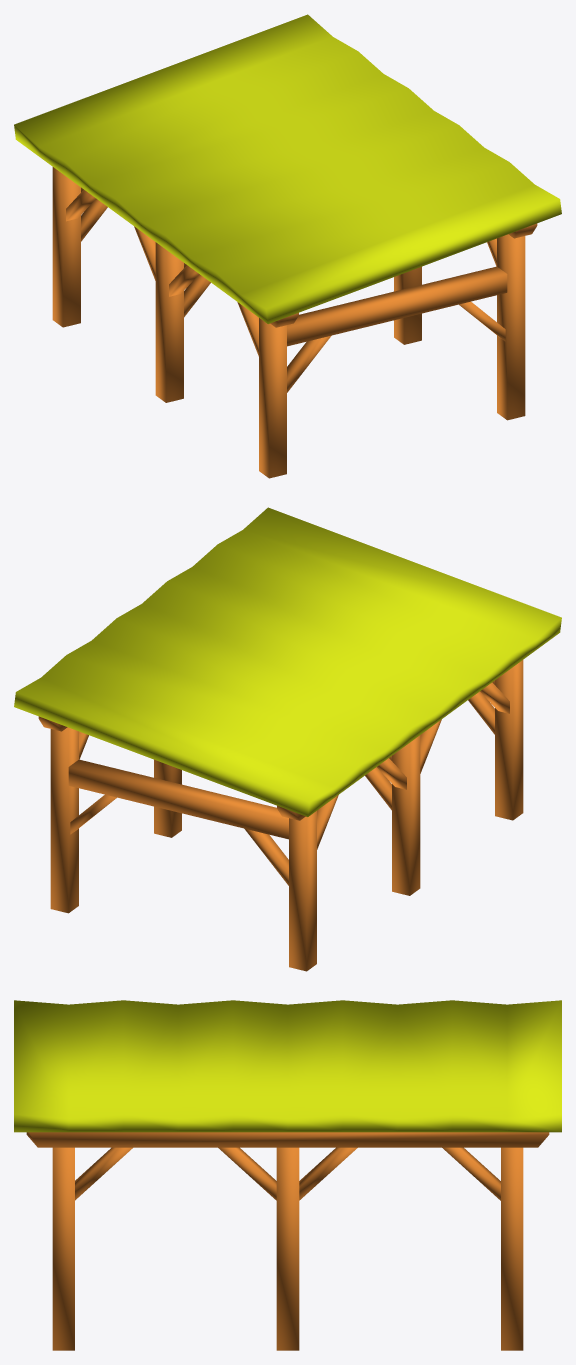
File: mod_toldo.fbx
The picture shows the model from 3 angles, top to bottom: view 1: azimuth 30°, elevation 25°; view 2: azimuth 150°, elevation 25°; view 3: azimuth 270°, elevation 25°; orthographic projection. The views are drawn at different scales.
Parts seen in each view (by area): view 1: soporteDiag5.003; view 2: soporteDiag5.003; view 3: soporteDiag5.003.
Part boxes in pixels (bbox=[...]): soporteDiag5.003: bbox=[14, 14, 561, 478]; soporteDiag5.003: bbox=[14, 507, 561, 971]; soporteDiag5.003: bbox=[14, 1000, 561, 1350].
Bounding box in the file's own units: 497 × 363 × 734.
